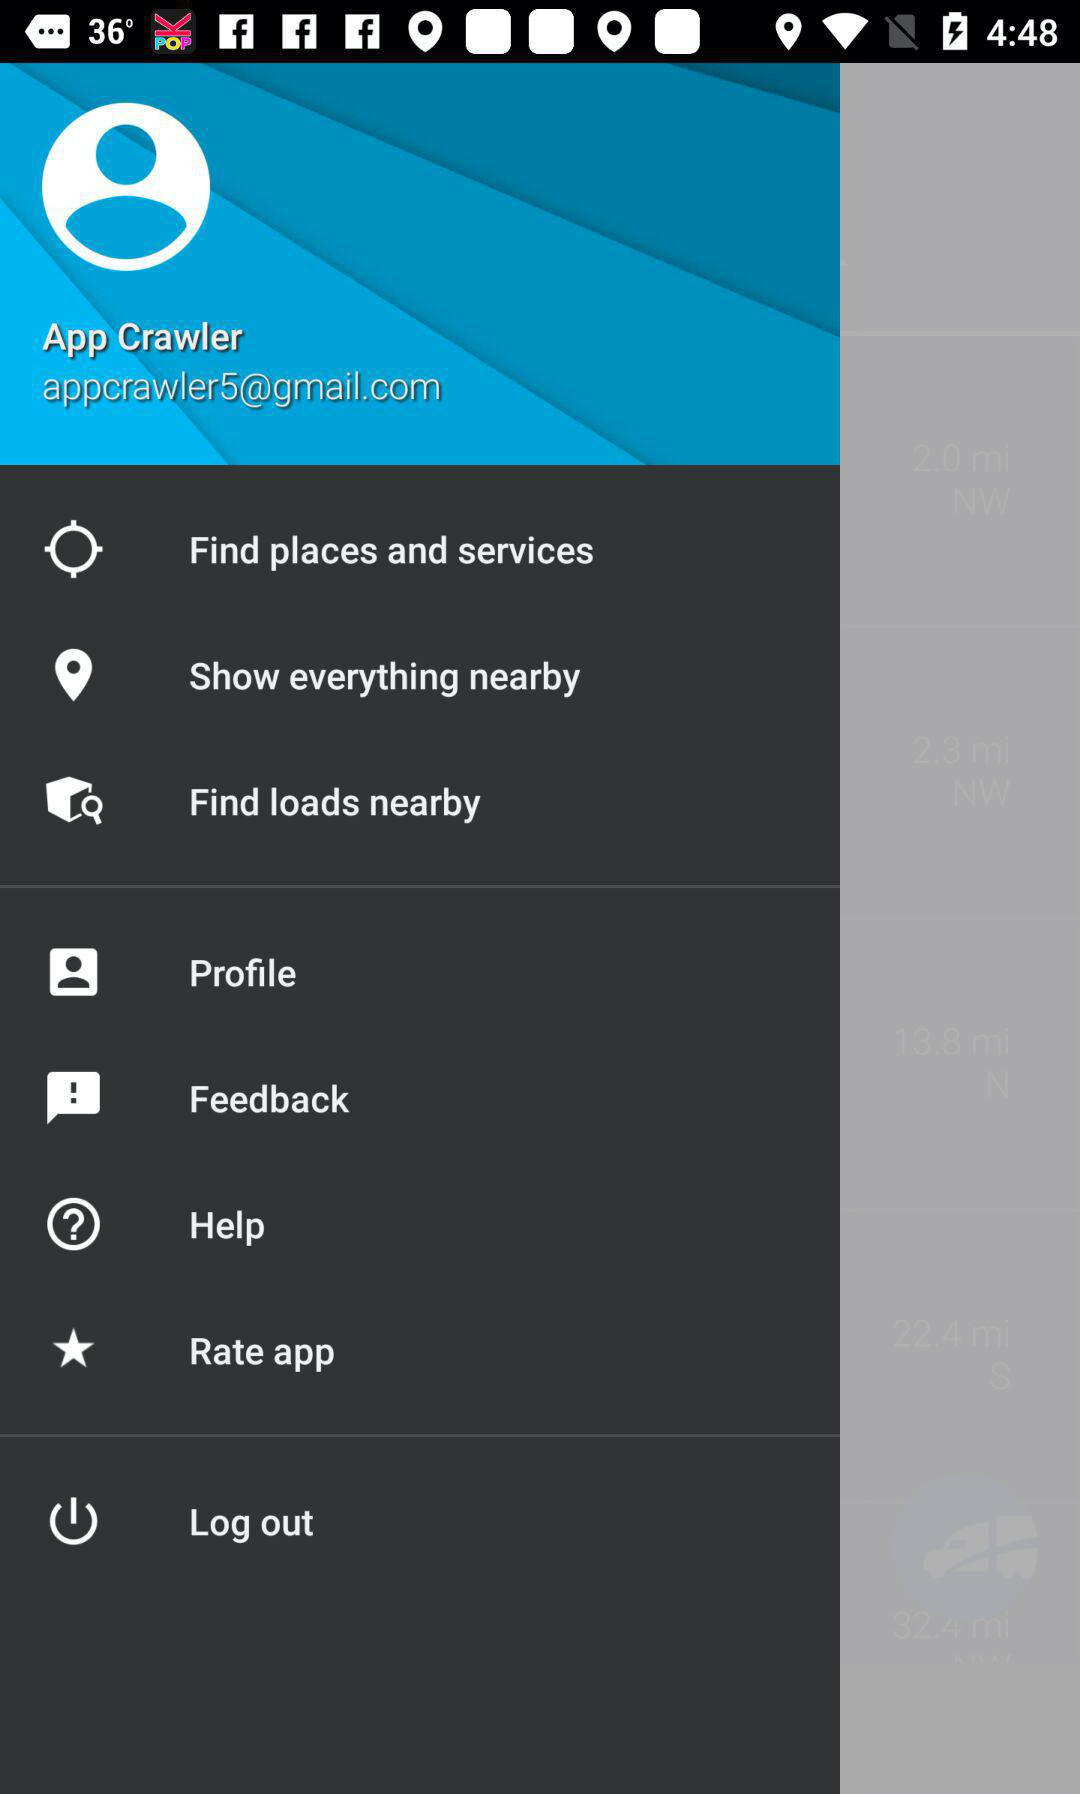Drawer: (1, 65, 839, 1794)
Icon: (42, 103, 211, 274), (44, 519, 106, 582), (46, 1196, 102, 1255), (46, 1070, 102, 1126), (45, 777, 106, 828), (49, 947, 100, 998), (54, 648, 94, 704), (51, 1328, 95, 1369)
Image: (49, 1495, 100, 1547)
Text: (44, 369, 441, 413), (190, 660, 583, 701), (190, 532, 594, 572), (190, 786, 482, 827), (42, 322, 245, 361), (190, 1082, 354, 1117), (190, 1337, 336, 1374), (190, 1507, 316, 1547), (190, 953, 299, 991), (190, 1208, 266, 1249)
UpperTaskBar: (1, 1, 1080, 64)
